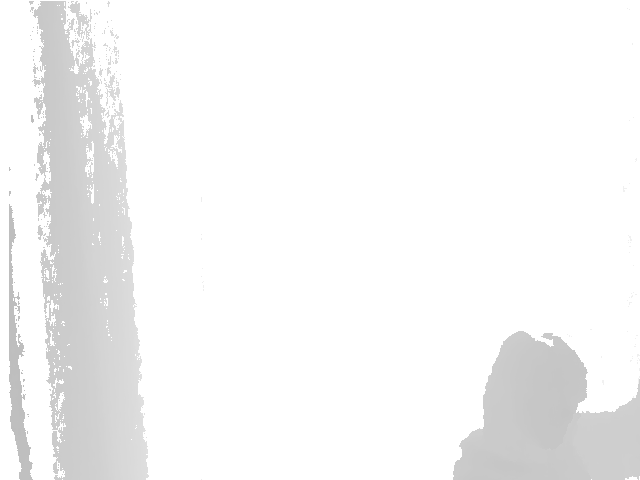head: (480, 328, 591, 450)
person: (450, 327, 640, 480)
